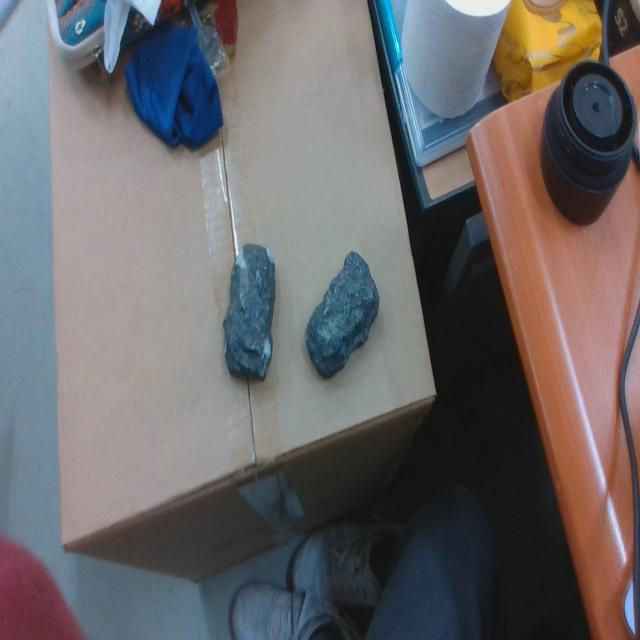stone: (305, 251, 380, 381), (222, 243, 276, 384)
